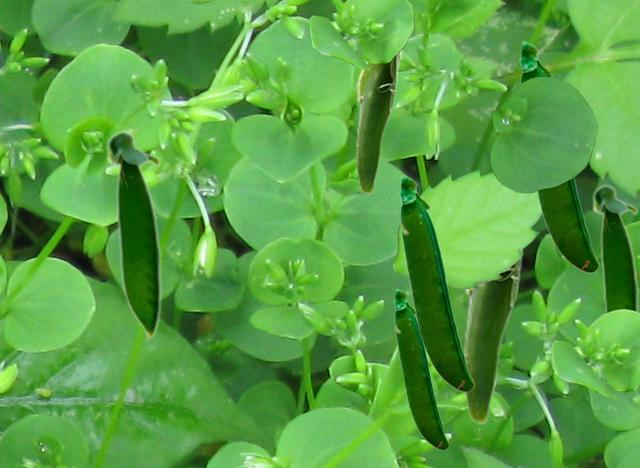pea: (518, 40, 598, 272), (398, 174, 473, 391), (105, 129, 161, 342), (462, 246, 528, 424), (393, 288, 448, 449), (355, 50, 404, 194), (591, 183, 638, 312)
